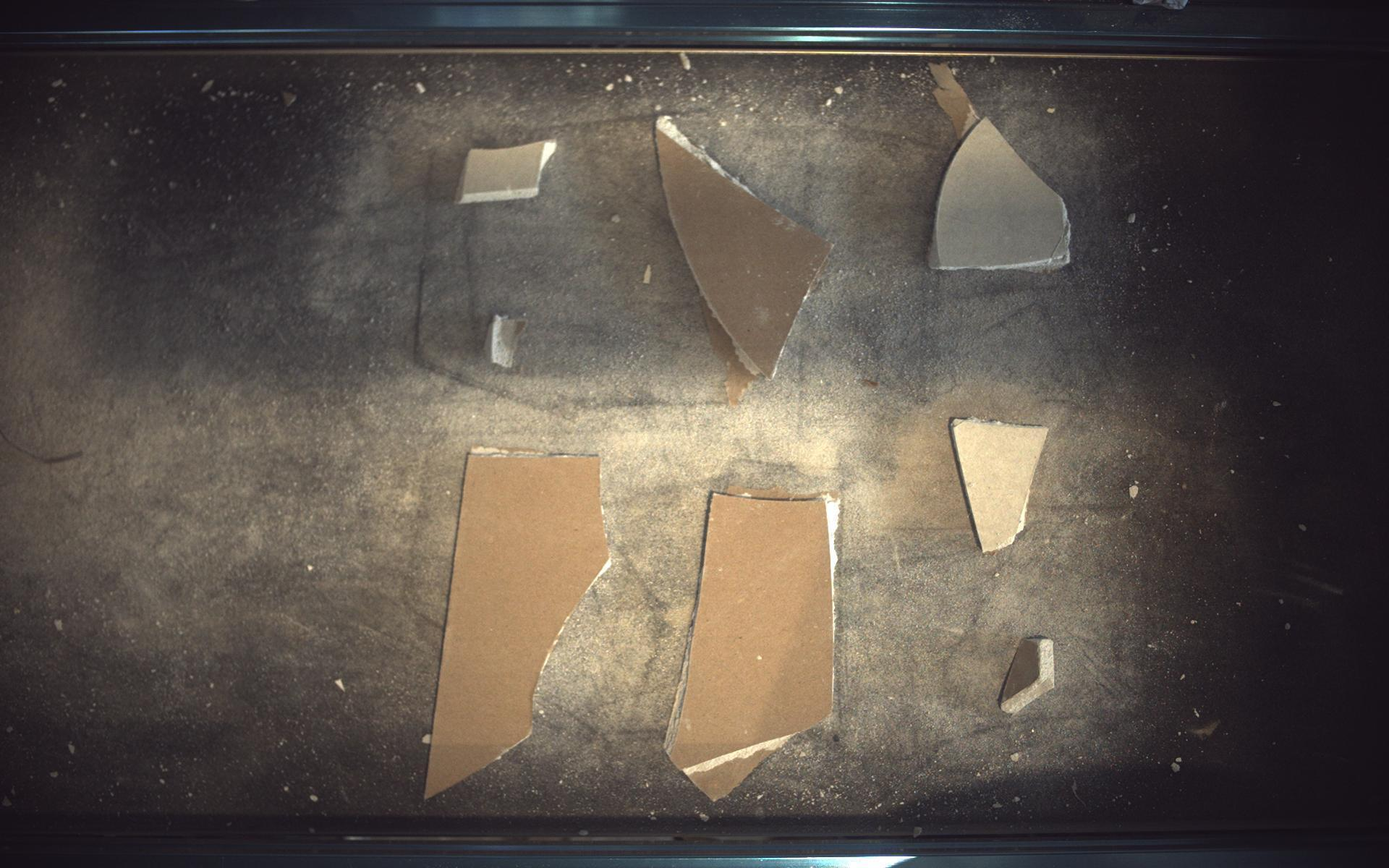gypsum_board: (425, 448, 610, 800), (666, 491, 841, 802), (656, 115, 833, 406), (930, 61, 1073, 271), (953, 419, 1050, 553), (458, 139, 557, 203), (1003, 639, 1057, 715), (485, 314, 527, 368)
